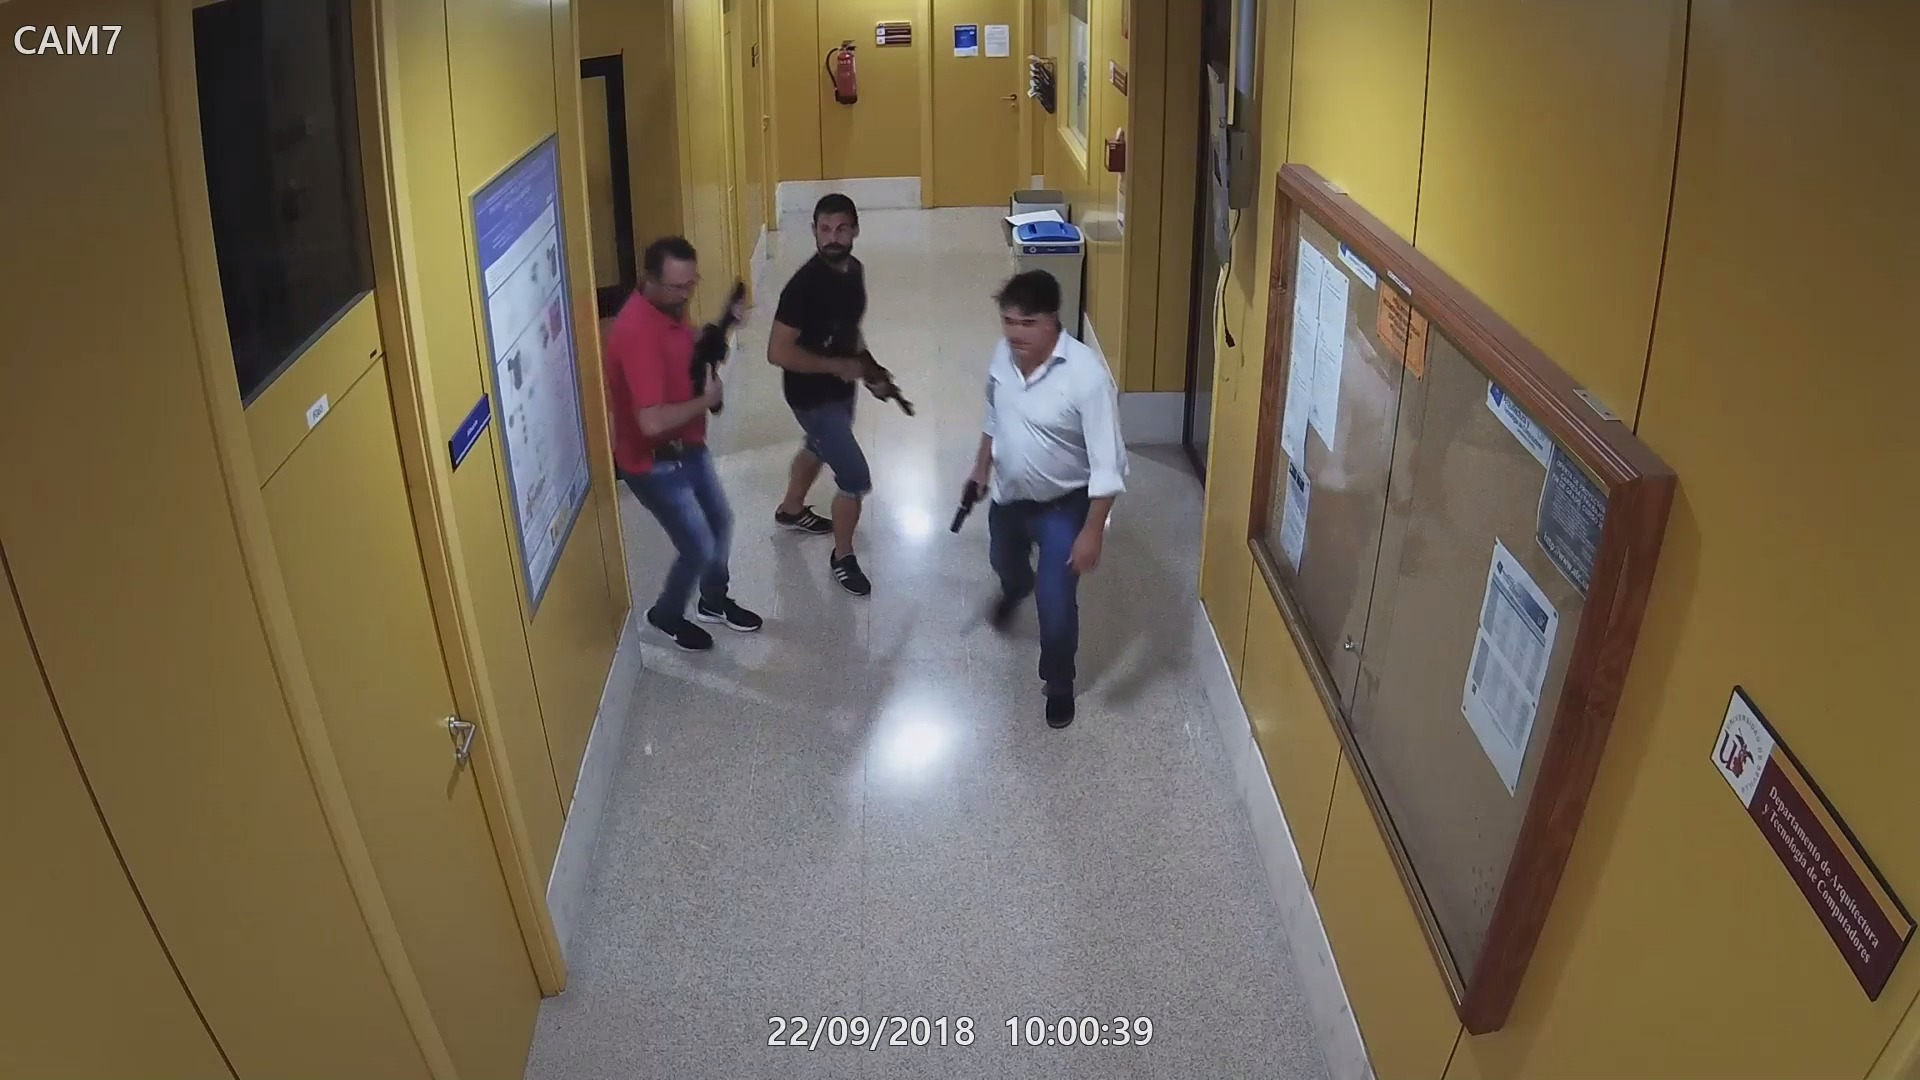Handgun: (945, 483, 994, 533)
Short_rifle: (686, 278, 746, 411), (844, 343, 916, 421)
